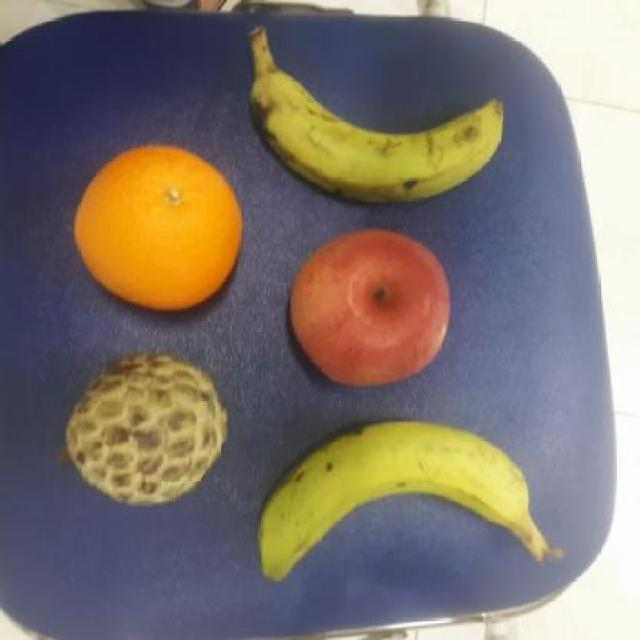apple: (291, 228, 451, 390)
banana: (256, 414, 555, 577), (251, 52, 507, 214)
oren: (68, 138, 245, 314)
sugar apple: (54, 347, 238, 511)
